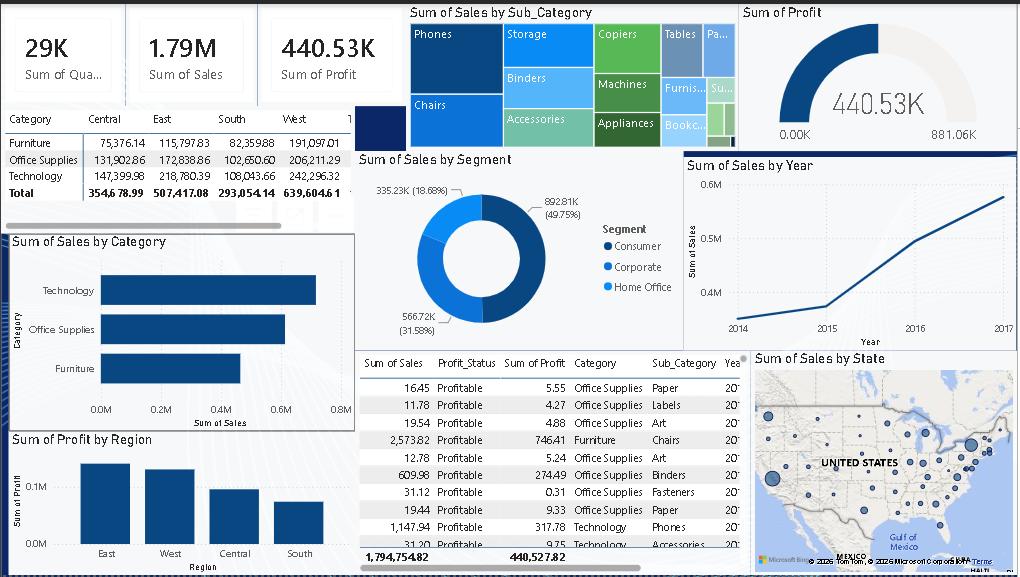

Layout of this report page (visuals, bound fields, positions):
{"tool":"powerbi","page":{"name":"Dashboard","canvas":[1280,720],"ordinal":0},"visuals":[{"type":"cardVisual","fields":{"Data":["Sum(Sample - Superstore.Sales)"]},"box":[156.9,0,166.3,128.5],"z":0},{"type":"cardVisual","fields":{"Data":["Sum(Sample - Superstore.Profit)"]},"box":[323.2,0,187.1,128.5],"z":1000},{"type":"cardVisual","fields":{"Data":["Sum(Sample - Superstore.Quantity)"]},"box":[0,0,156.9,128.5],"z":2000},{"type":"clusteredBarChart","fields":{"Category":["Sample - Superstore.Category"],"Y":["Sum(Sample - Superstore.Sales)"]},"box":[0,289.1,446,249.5],"z":2001},{"type":"clusteredColumnChart","fields":{"Category":["Sample - Superstore.Region"],"Y":["Sum(Sample - Superstore.Profit)"]},"box":[0,538.6,446,181.4],"z":2002},{"type":"lineChart","fields":{"Category":["Sample - Superstore.Order Date.Variation.Date Hierarchy.Year","Sample - Superstore.Order Date.Variation.Date Hierarchy.Quarter","Sample - Superstore.Order Date.Variation.Date Hierarchy.Month","Sample - Superstore.Order Date.Variation.Date Hierarchy.Day"],"Y":["Sum(Sample - Superstore.Sales)"]},"box":[859.8,192.8,419.5,243.8],"z":2003},{"type":"donutChart","fields":{"Category":["Sample - Superstore.Segment"],"Y":["Sum(Sample - Superstore.Sales)"]},"box":[446,185.2,413.9,251.3],"z":2004},{"type":"tableEx","fields":{"Values":["Sum(Sample - Superstore.Sales)","Sample - Superstore.Profit_Status","Sum(Sample - Superstore.Profit)","Sample - Superstore.Category","Sample - Superstore.Sub_Category","Sample - Superstore.Order Date.Variation.Date Hierarchy.Year","Sample - Superstore.Order Date.Variation.Date Hierarchy.Quarter","Sample - Superstore.Order Date.Variation.Date Hierarchy.Month","Sample - Superstore.Order Date.Variation.Date Hierarchy.Day"]},"box":[446,436.5,498.9,283.5],"z":2005},{"type":"pivotTable","fields":{"Rows":["Sample - Superstore.Category"],"Columns":["Sample - Superstore.Region"],"Values":["Sum(Sample - Superstore.Sales)"]},"box":[0,128.5,446,160.6],"z":2006},{"type":"map","fields":{"Category":["Sample - Superstore.State"],"Size":["Sum(Sample - Superstore.Sales)"]},"box":[945,437,335,283],"z":2007},{"type":"treemap","fields":{"Group":["Sample - Superstore.Sub_Category"],"Values":["Sum(Sample - Superstore.Sales)"]},"box":[510.2,0,419.5,185.2],"z":2008},{"type":"gauge","fields":{"Y":["Sum(Sample - Superstore.Profit)"]},"box":[930,0,350,185],"z":2009}]}

Visuals, with their boxes in screenshot pixels (x1, y1, x2, y2), scaled from the page's 1280x720 canvas onto the 1020x577 screenshot:
cardVisual - Sum(Sample - Superstore.Sales): l=125, t=0, r=258, b=103
cardVisual - Sum(Sample - Superstore.Profit): l=258, t=0, r=407, b=103
cardVisual - Sum(Sample - Superstore.Quantity): l=0, t=0, r=125, b=103
clusteredBarChart - Sample - Superstore.Category x Sum(Sample - Superstore.Sales): l=0, t=232, r=355, b=432
clusteredColumnChart - Sample - Superstore.Region x Sum(Sample - Superstore.Profit): l=0, t=432, r=355, b=576
lineChart - Sample - Superstore.Order Date.Variation.Date Hierarchy.Year x Sample - Superstore.Order Date.Variation.Date Hierarchy.Quarter: l=685, t=155, r=1019, b=350
donutChart - Sample - Superstore.Segment x Sum(Sample - Superstore.Sales): l=355, t=148, r=685, b=350
tableEx - Sum(Sample - Superstore.Sales) x Sample - Superstore.Profit_Status: l=355, t=350, r=753, b=576
pivotTable - Sample - Superstore.Category x Sample - Superstore.Region: l=0, t=103, r=355, b=232
map - Sample - Superstore.State x Sum(Sample - Superstore.Sales): l=753, t=350, r=1019, b=576
treemap - Sample - Superstore.Sub_Category x Sum(Sample - Superstore.Sales): l=407, t=0, r=741, b=148
gauge - Sum(Sample - Superstore.Profit): l=741, t=0, r=1019, b=148
